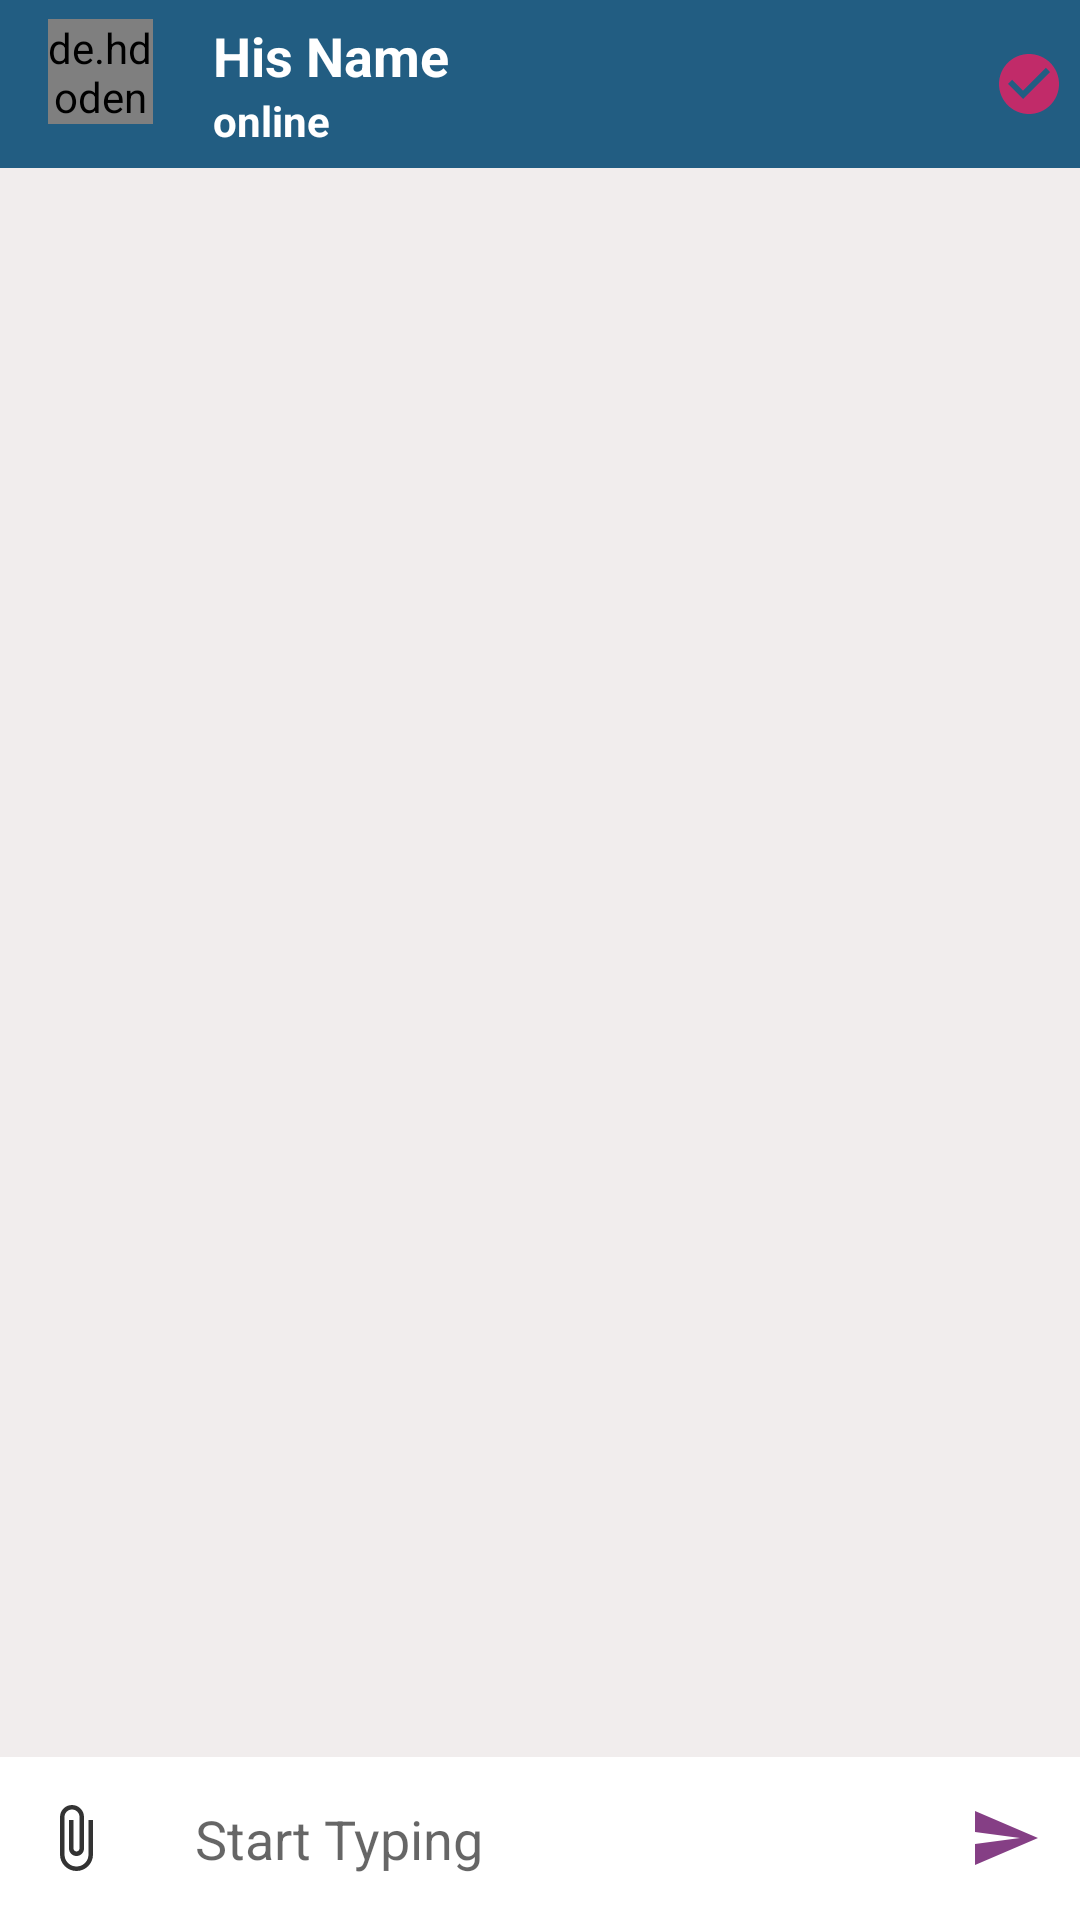

Icons on this 1080x1920 Android screen, each with the point to tap as point (x, y):
attach: point (76, 1838)
send: point (1006, 1838)
